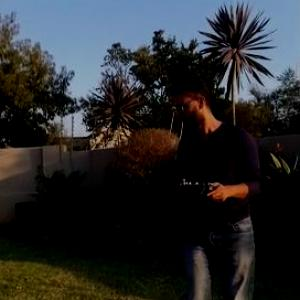follow: (168, 65, 267, 299)
